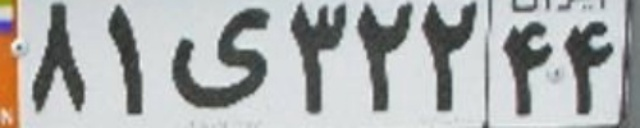1: (104, 5, 146, 112)
2: (417, 2, 472, 111), (357, 3, 411, 111)
3: (287, 2, 346, 112)
4: (563, 19, 615, 116), (501, 20, 551, 115)
8: (27, 0, 88, 110)
ye: (171, 6, 271, 107)
